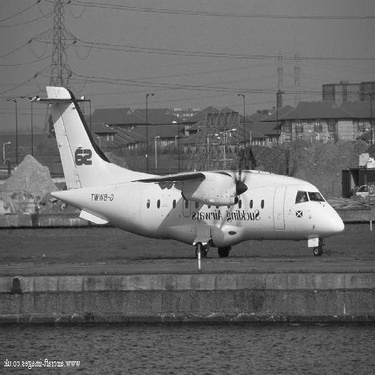airplane: (6, 57, 354, 274)
